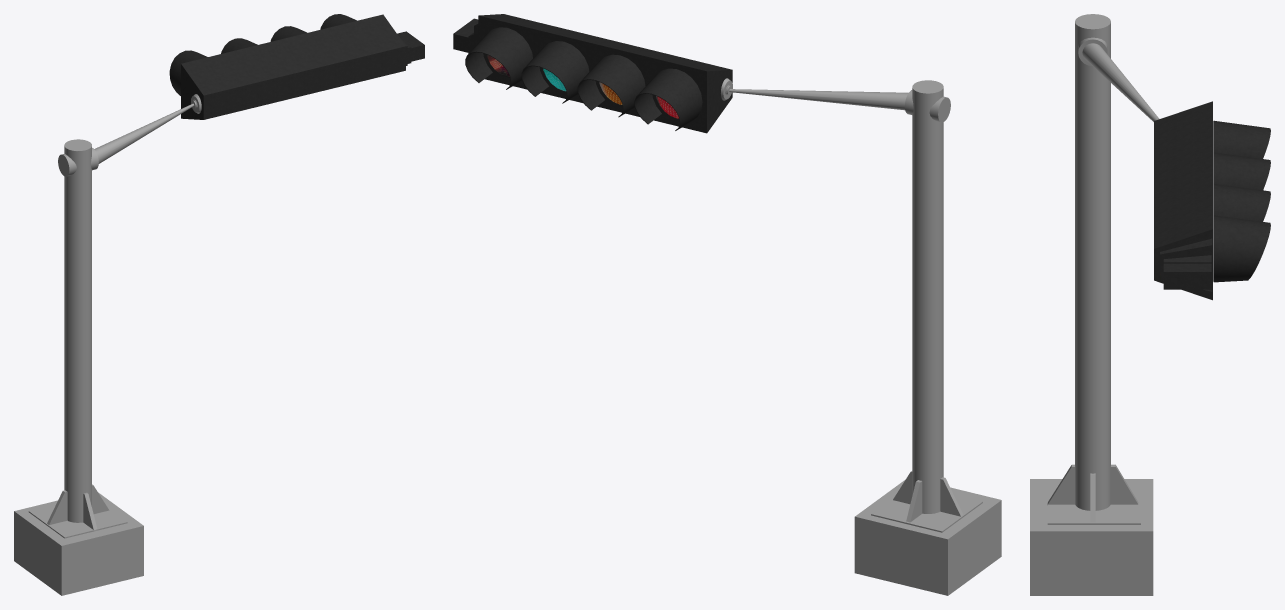
Rendered from signalLight.obj.
3 renders of one model, left to right at view 1: azimuth 30°, elevation 25°; view 2: azimuth 150°, elevation 25°; view 3: azimuth 270°, elevation 25°, orthographic. The views are drawn at different scales.
Visible parts, largest first — view 1: Signal; view 2: Signal; view 3: Signal.
Boxes of the visible parts, left/top/right/bottom form: Signal: left=14, top=14, right=424, bottom=595; Signal: left=453, top=14, right=1001, bottom=595; Signal: left=1030, top=14, right=1270, bottom=595.
Bounding box in the file's own units: 6.7 × 6.7 × 2.6.
